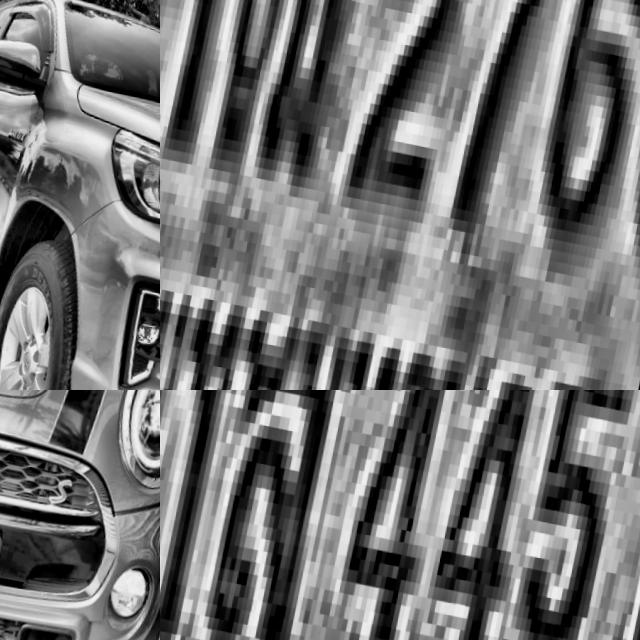license-plate: (160, 0, 640, 390), (160, 390, 640, 640)
